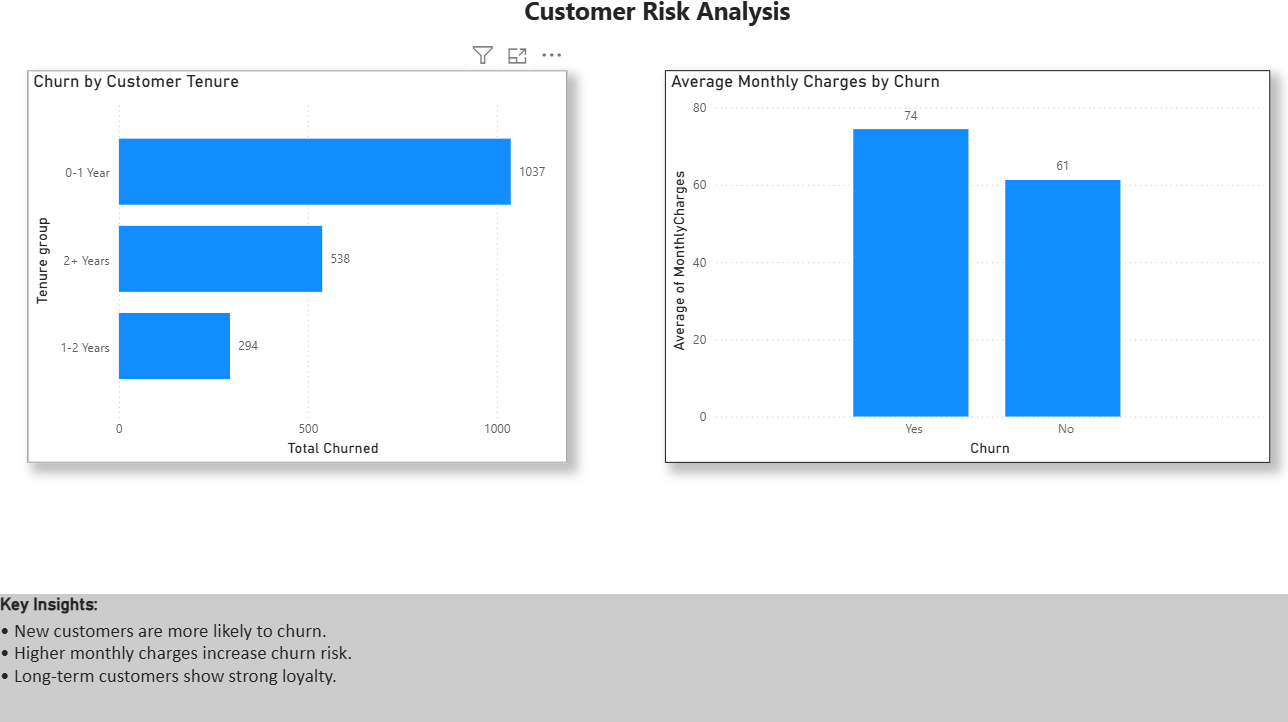

Layout of this report page (visuals, bound fields, positions):
{"tool":"powerbi","page":{"name":"Risk Analysis","canvas":[1280,720],"ordinal":2},"visuals":[{"type":"clusteredBarChart","title":"Churn by Customer Tenure","fields":{"Category":["Raw_data.Tenure group"],"Y":["Raw_data.Total Churned"]},"box":[32,80,528,384],"z":0},{"type":"textbox","box":[16,0,1264,48],"z":1},{"type":"clusteredColumnChart","title":"Average Monthly Charges by Churn","fields":{"Category":["Raw_data.Churn"],"Y":["Avg(Raw_data.MonthlyCharges)"]},"box":[656,80,592,384],"z":2},{"type":"textbox","title":"Key Insights:","box":[0,592,1280,128],"z":3}]}

Visuals, with their boxes in screenshot pixels (x1, y1, x2, y2), scaled from the page's 1280x720 canvas onto the 1288x722 screenshot:
"Churn by Customer Tenure" clusteredBarChart: bbox=(32, 80, 564, 465)
textbox: bbox=(16, 0, 1287, 48)
"Average Monthly Charges by Churn" clusteredColumnChart: bbox=(660, 80, 1256, 465)
"Key Insights:" textbox: bbox=(0, 594, 1287, 721)
